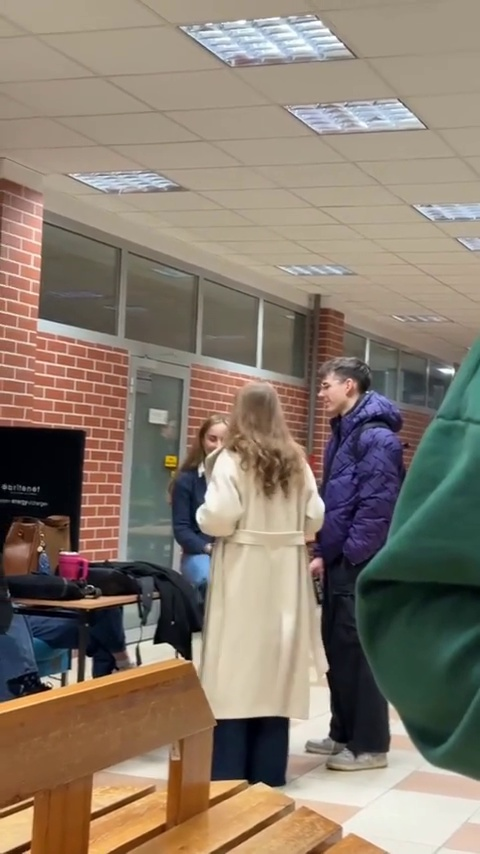no vest: (204, 375, 323, 712), (314, 352, 417, 728)
